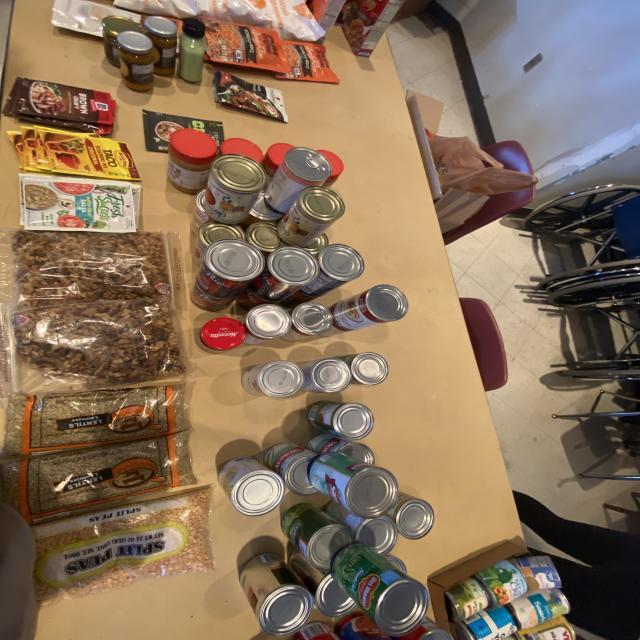Canned Food: (333, 545, 428, 635), (240, 554, 313, 636), (308, 452, 398, 518), (237, 246, 318, 310), (282, 502, 353, 571), (288, 550, 357, 618), (265, 148, 332, 214), (325, 285, 408, 335), (205, 155, 265, 224), (197, 239, 265, 299), (277, 186, 345, 246), (218, 456, 285, 516), (325, 500, 398, 555), (300, 244, 365, 298), (263, 442, 318, 496), (308, 400, 375, 440), (505, 589, 570, 629), (475, 560, 527, 609), (193, 220, 245, 265), (450, 606, 518, 640), (387, 492, 435, 540), (242, 361, 303, 398), (307, 434, 375, 464), (243, 304, 292, 345), (282, 302, 332, 340), (445, 578, 488, 622), (508, 555, 562, 590), (297, 358, 352, 392), (337, 352, 388, 385), (505, 616, 575, 640), (335, 612, 393, 640), (242, 191, 283, 228), (200, 318, 245, 350), (245, 221, 285, 256), (398, 616, 453, 640), (190, 284, 235, 311), (190, 190, 212, 234), (292, 622, 342, 640), (280, 290, 317, 309), (303, 234, 328, 256)
Condiment: (117, 31, 153, 91), (102, 16, 142, 68), (143, 16, 177, 75), (178, 18, 205, 82)
Grains: (32, 488, 213, 605), (2, 431, 197, 522), (5, 385, 190, 455)
Peanut Butter: (168, 129, 217, 194), (263, 142, 293, 186), (220, 138, 263, 164), (317, 150, 343, 188)
Rice: (200, 18, 290, 72), (52, 0, 140, 36), (275, 40, 340, 84)
Seasoning -Thin Package-: (7, 126, 140, 180), (20, 174, 137, 232), (8, 126, 103, 176), (12, 79, 115, 124), (213, 71, 288, 122), (143, 110, 225, 152), (7, 126, 52, 172)
Snack: (2, 296, 187, 394), (12, 230, 170, 308)
